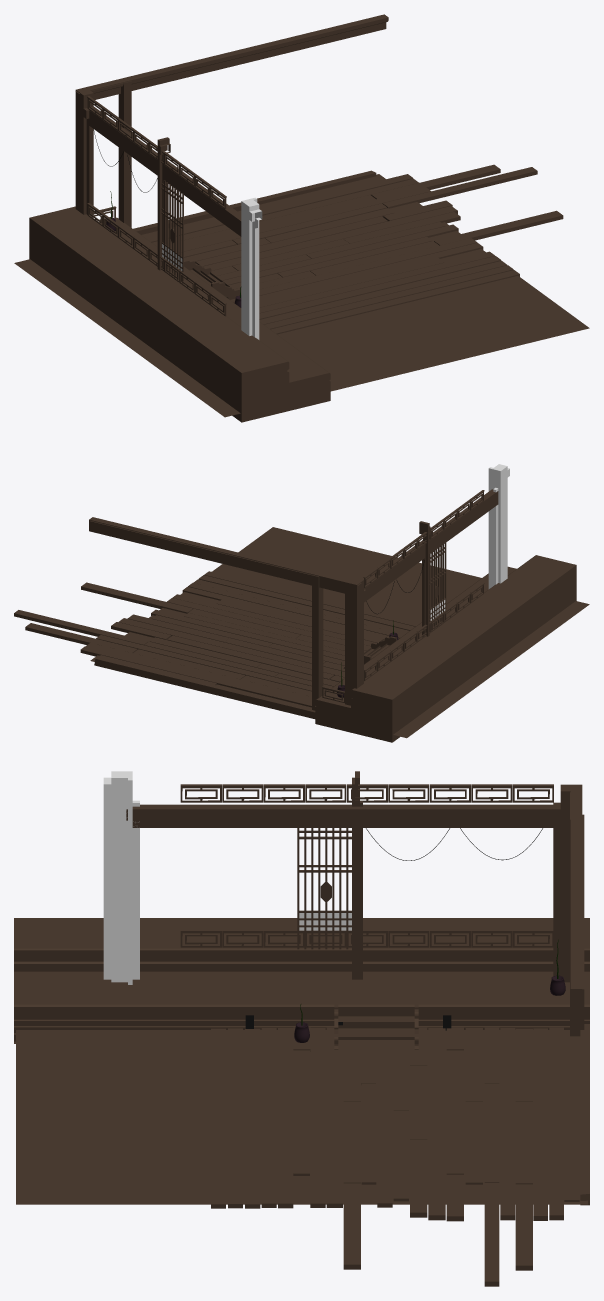
The picture shows the model from 3 angles, top to bottom: view 1: azimuth 30°, elevation 25°; view 2: azimuth 150°, elevation 25°; view 3: azimuth 270°, elevation 25°; orthographic projection. The views are drawn at different scales.
Visible parts, largest first — view 1: Cube, stairs, Plane, pillar, pillar.002, fence long.001, fence long, Cube.001, pillar.001; view 2: Cube, stairs, Plane, pillar, pillar.002, fence long.001, fence long, Cube.001, pillar.001; view 3: Cube, stairs, Plane, pillar, pillar.002, fence long.001, fence long, Cube.001, pillar.001, Cube.010.
Part boxes in pixels (x1,y1,x2,y2): Cube: (133,164,563,334); stairs: (29,206,330,422); Plane: (14,81,589,417); pillar: (75,14,388,236); pillar.002: (241,197,262,339); fence long.001: (87,96,226,209); fence long: (87,203,226,316); Cube.001: (164,180,183,283); pillar.001: (157,137,170,270); Cube: (14,571,420,718); stairs: (315,555,576,742); Plane: (90,520,589,738); pillar: (89,489,498,705); pillar.002: (488,464,509,589); fence long.001: (363,490,484,588); fence long: (364,582,484,680); Cube.001: (429,542,446,630); pillar.001: (419,521,430,637); Cube: (211,1024,589,1286); stairs: (14,918,589,1049); Plane: (16,792,587,1204); pillar: (126,784,582,1006); pillar.002: (103,771,139,984); fence long.001: (180,784,553,802); fence long: (180,929,553,947); Cube.001: (297,828,348,949); pillar.001: (352,771,362,979); Cube.010: (299,913,351,930).
Bounding box in the file's own units: 1232 × 442 × 933.
